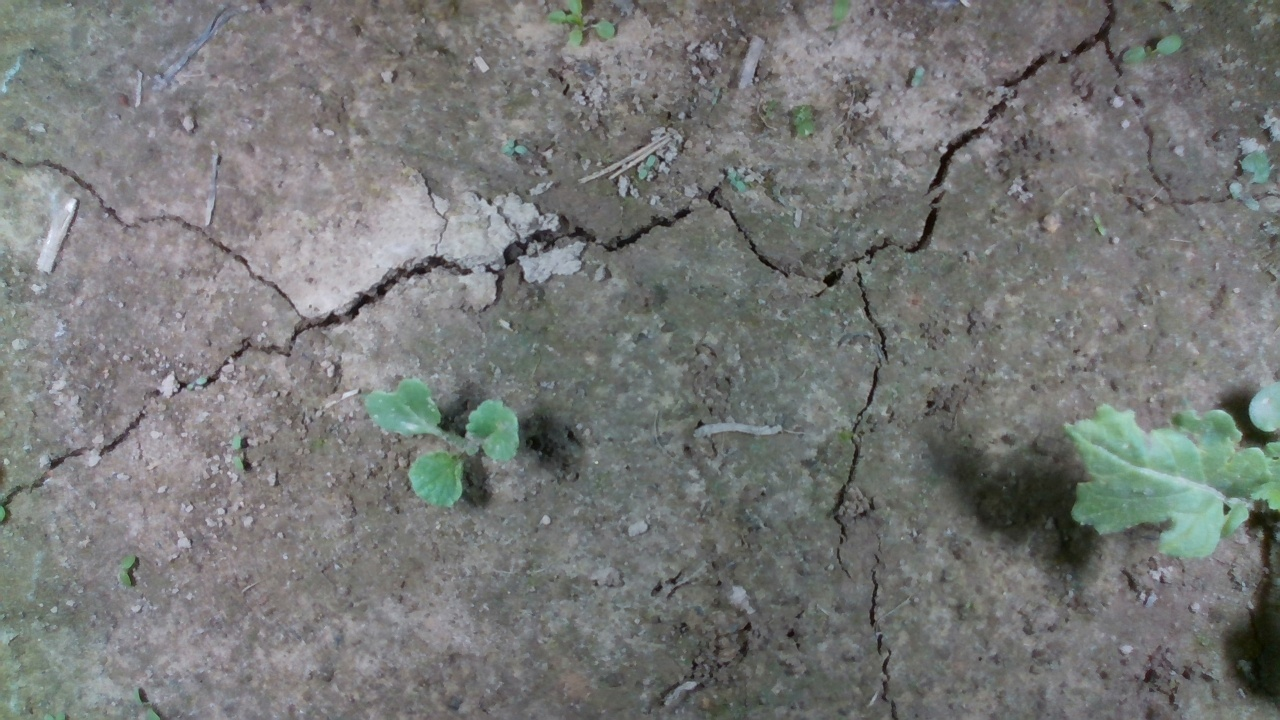weed: (721, 161, 779, 204), (106, 554, 147, 595), (221, 433, 253, 483), (499, 135, 527, 162)
